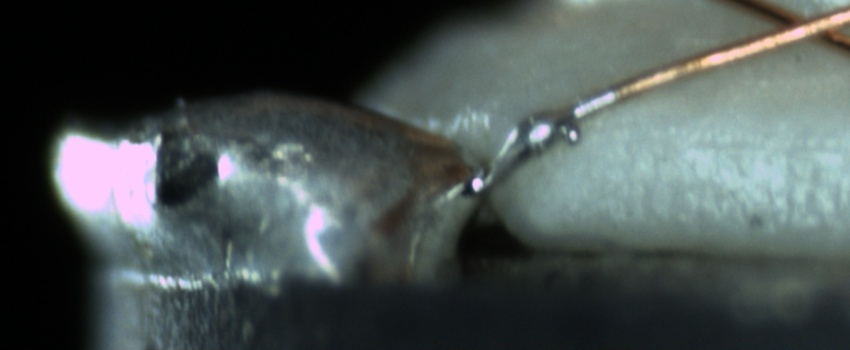CL: (747, 2, 845, 54)
DL: (635, 124, 850, 175)
TB: (489, 100, 582, 191)
TS: (482, 88, 617, 185)
TTCW: (464, 62, 686, 199)
